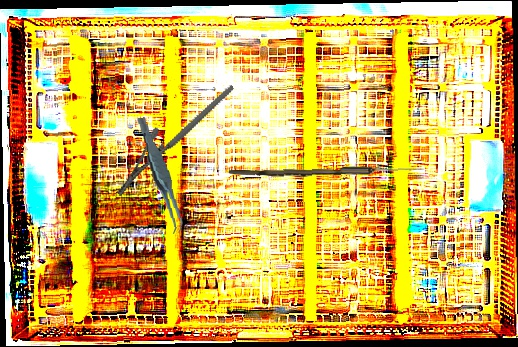Needle Holder: (96, 84, 256, 198)
Surgical Spoon: (228, 163, 425, 180)
Tissue Forceps: (136, 114, 185, 237)
